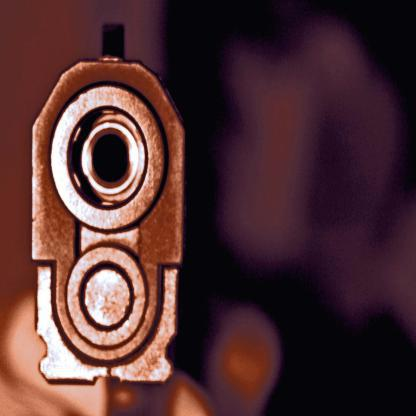pistol: (31, 54, 188, 384)
